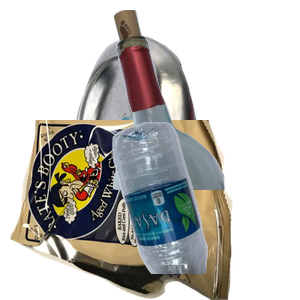glass: (89, 10, 300, 190)
metal: (73, 34, 285, 214)
plastic: (110, 120, 300, 300)
trash: (10, 120, 235, 300)
